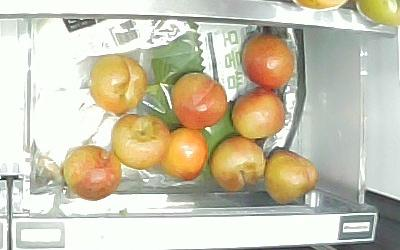prune: (62, 143, 122, 201), (240, 34, 297, 92), (90, 55, 146, 114), (110, 115, 171, 169), (210, 135, 266, 191), (171, 73, 227, 127), (266, 149, 318, 206), (232, 89, 288, 139), (162, 129, 210, 181)
